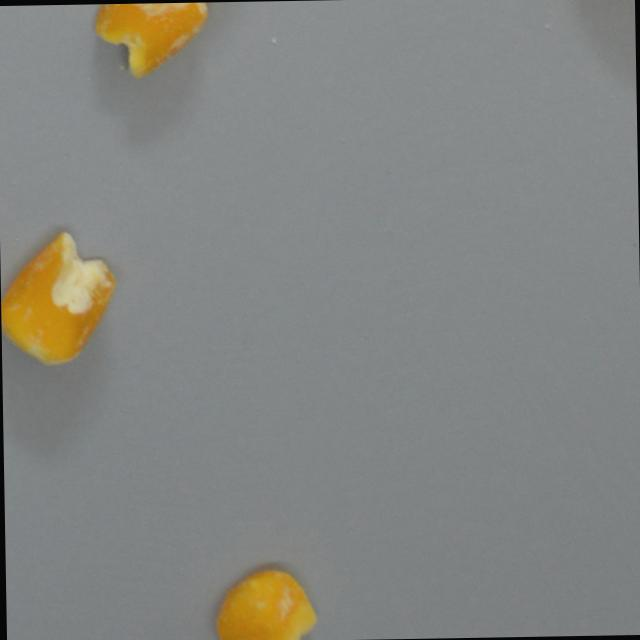no_canjicado: (212, 566, 318, 640)
pelicula: (0, 248, 120, 353), (92, 2, 210, 81)
